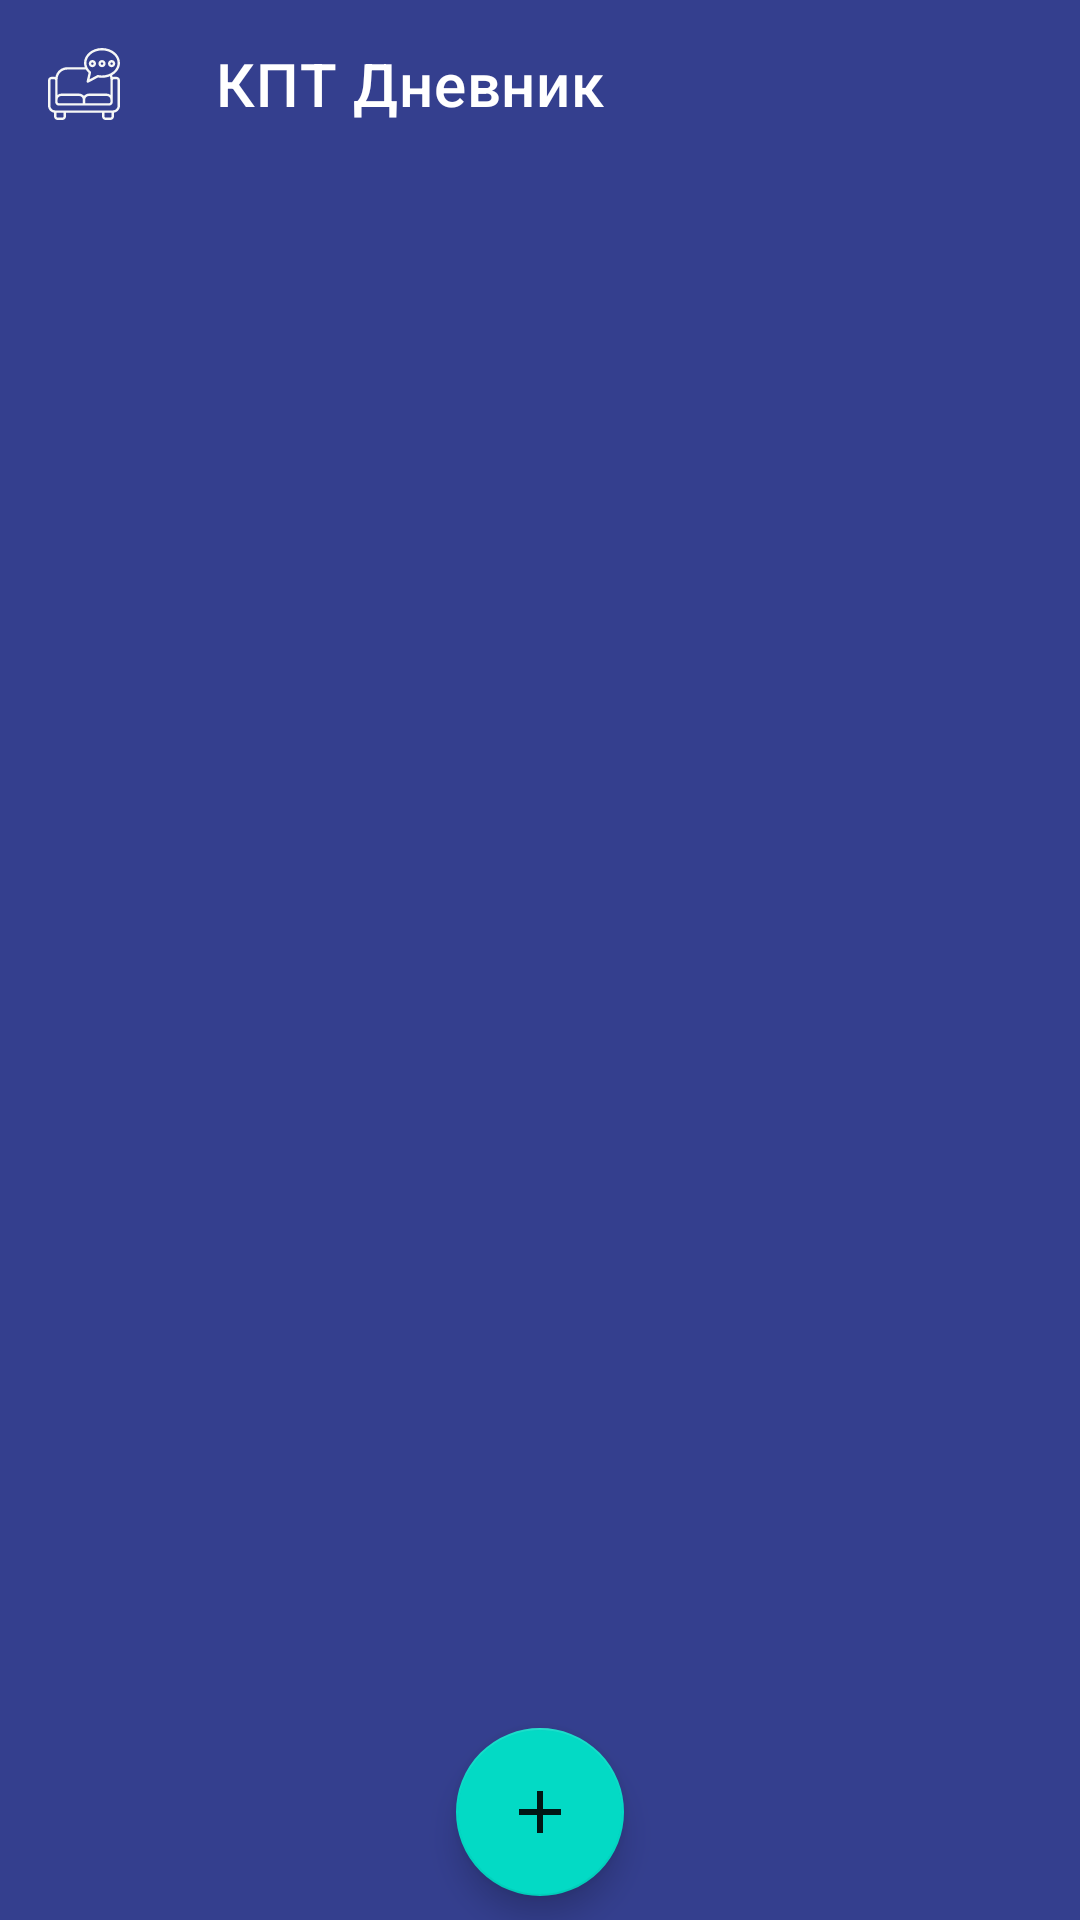

Named icons in this screenshot (1080 × 1920) and their bounding boxes, (x1, y1, x2, y2):
add: (456, 1728, 624, 1896)
